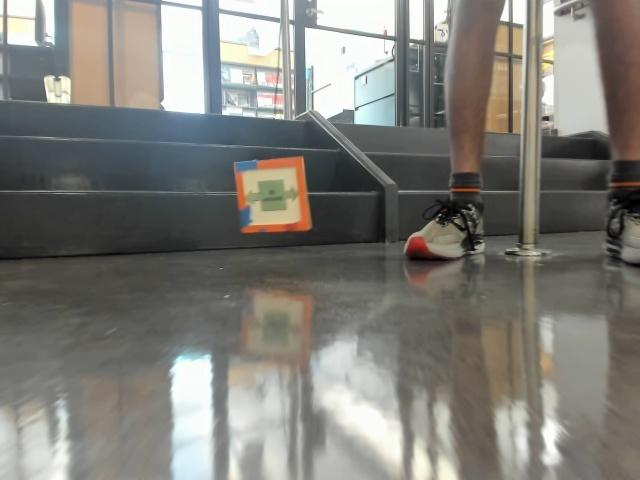Go Around: (244, 182, 296, 212)
